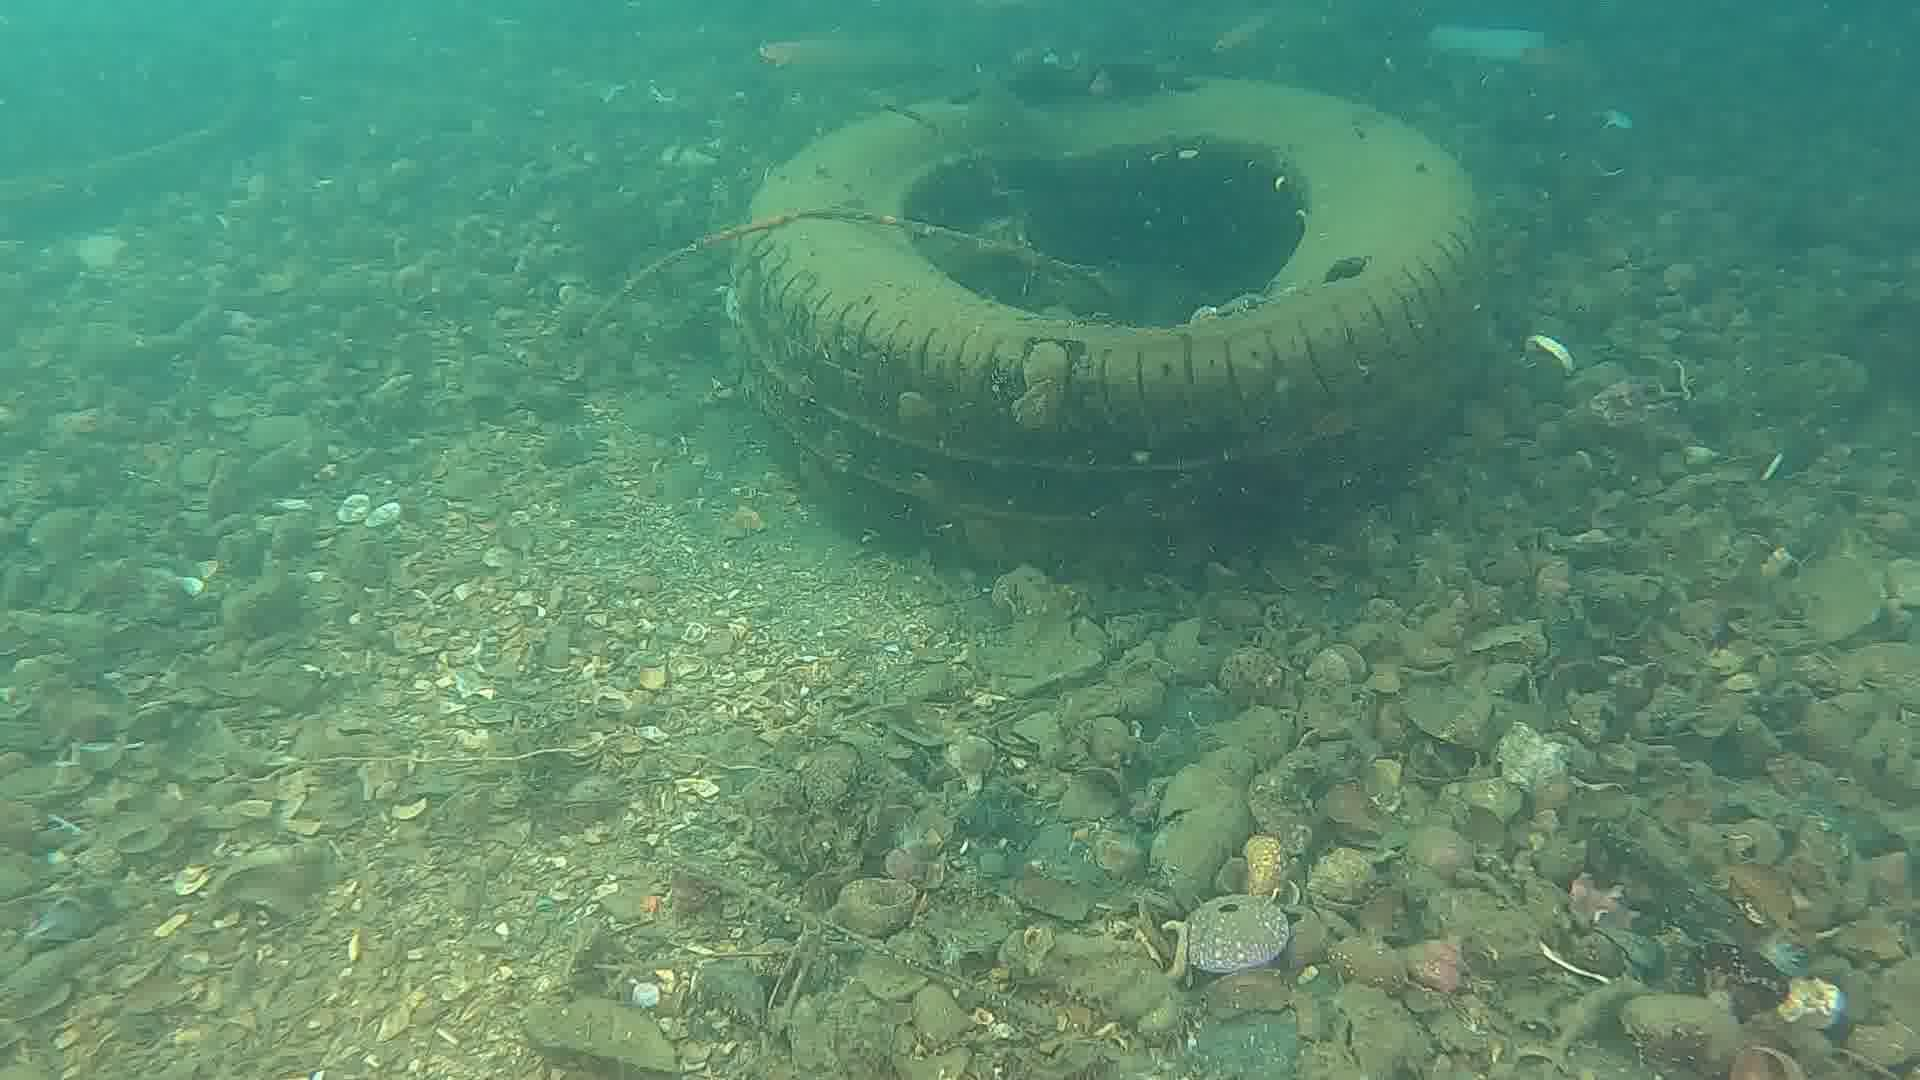tire: (725, 63, 1491, 589)
